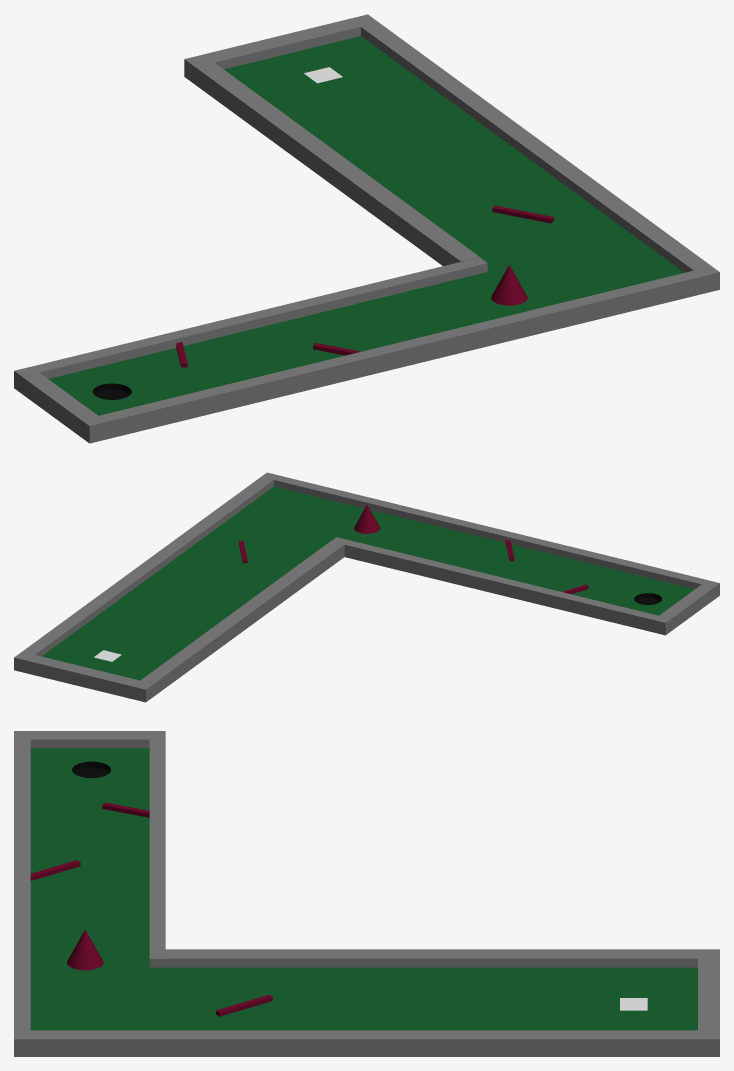
Rendered from piste3.fbx.
3 renders of one model, top to bottom at view 1: azimuth 30°, elevation 25°; view 2: azimuth 150°, elevation 25°; view 3: azimuth 270°, elevation 25°, orthographic. The views are drawn at different scales.
Visible parts, largest first — view 1: Cube, Cone; view 2: Cube, Cone; view 3: Cube, Cone.
Boxes of the visible parts, x1,y1,x2,y2 form: Cube: [14, 14, 719, 443]; Cone: [491, 265, 527, 305]; Cube: [14, 472, 719, 702]; Cone: [354, 505, 380, 533]; Cube: [14, 731, 719, 1056]; Cone: [67, 929, 103, 970].
Bounding box in the file's own units: 1604 × 102 × 1552.
